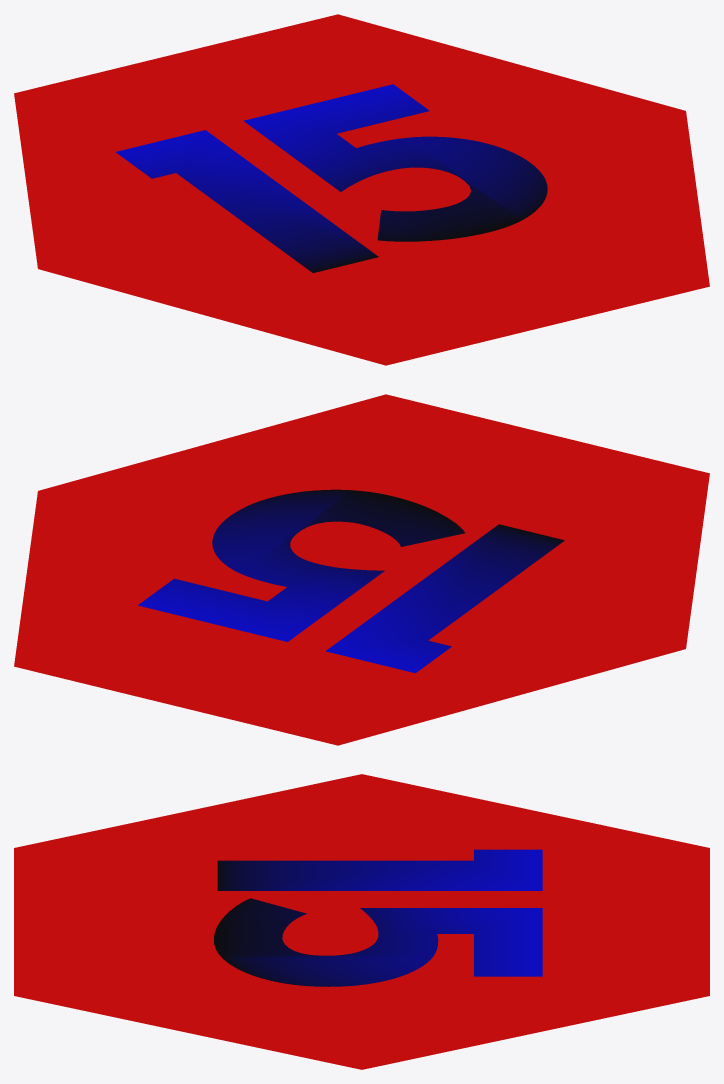
File: SM_Number_15.fbx
3 views of the same model, one above another, from view 1: azimuth 30°, elevation 25°; view 2: azimuth 150°, elevation 25°; view 3: azimuth 270°, elevation 25° (orthographic). The views are drawn at different scales.
Parts seen in each view (by area): view 1: FBX_OUT; view 2: FBX_OUT; view 3: FBX_OUT.
Boxes of the visible parts, x1,y1,x2,y2 form: FBX_OUT: (14, 14, 709, 365); FBX_OUT: (14, 394, 709, 745); FBX_OUT: (14, 774, 709, 1069).
Bounding box in the file's own units: 50 × 0.2917 × 49.71.
